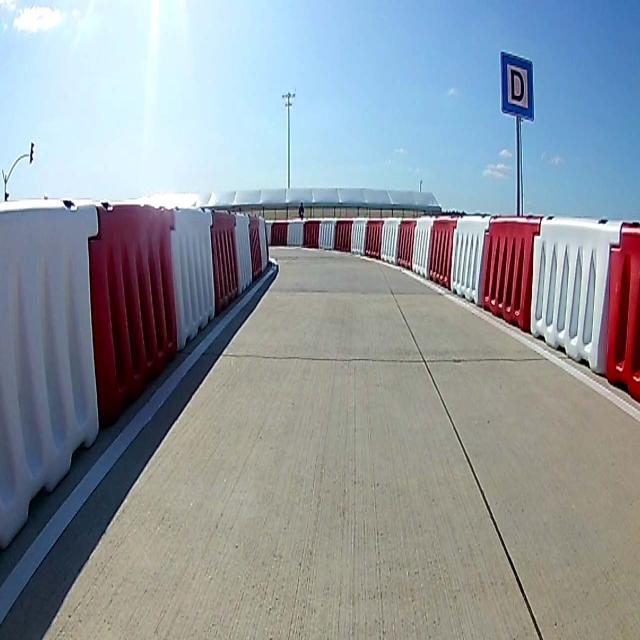durak: (500, 50, 534, 122)
